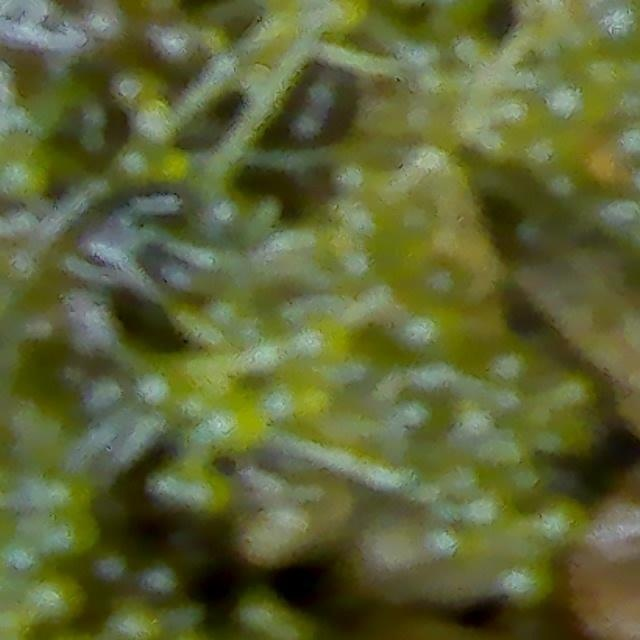SeaGrape: (202, 390, 263, 445), (287, 317, 349, 370), (600, 5, 640, 49)
